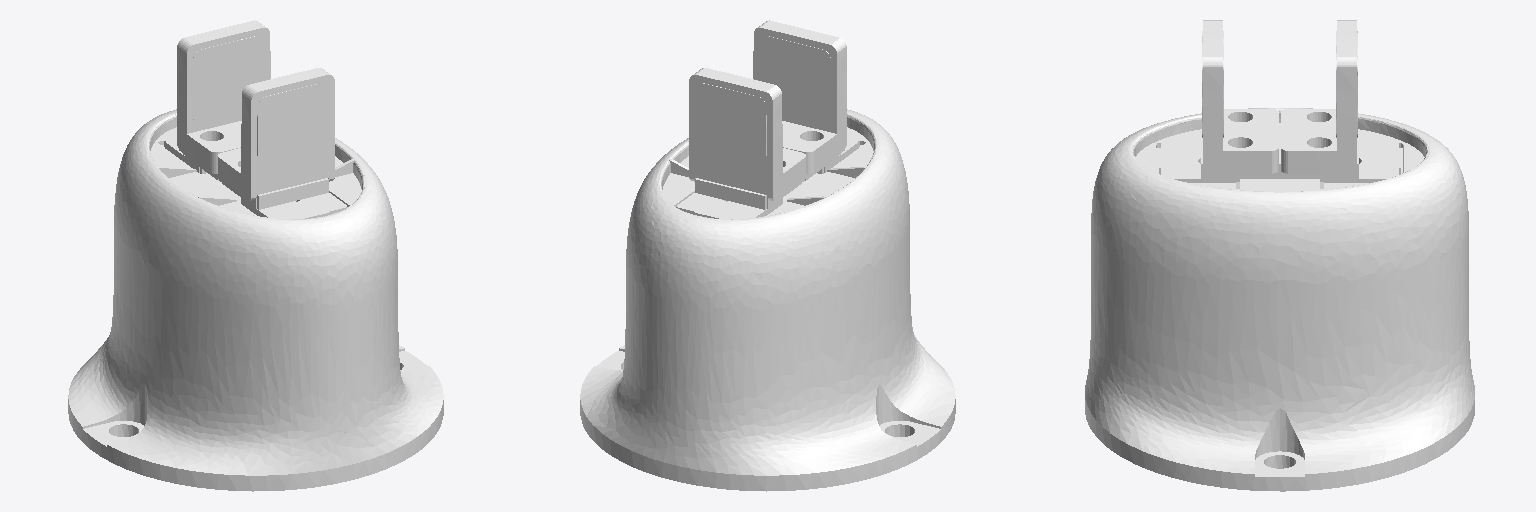
URDF robot description (lite_gripper):
<?xml version='1.0' encoding='utf-8'?>
<robot name="lite_gripper" version="1.2">
  <material name="White">
    <color rgba="1.0 1.0 1.0 1.0" />
  </material>
  <ros2_control name="XArmGripperSystem" type="system">
    <hardware>
      <plugin>topic_based_ros2_control/TopicBasedSystem</plugin>
      <!-- <param name="joint_commands_topic">${isaac_cmd_topic}</param> -->
      <param name="joint_states_topic">/isaac_joint_states</param>
    </hardware>
    <!-- Drive joint: only this joint is commandable -->
    <joint name="right_finger_joint">
      <command_interface name="position" />
      <state_interface name="position" />
      <state_interface name="velocity" />
    </joint>
    <!-- Mimic joint(s): state-only, no command interfaces -->
    <!-- REMOVED TO AVOID CONFLICTS WITH TF AS IT'S NOT CONTROLLED-->
    <!-- <joint name="${prefix}left_finger_joint">
        <state_interface name="position"/>
        <state_interface name="velocity"/>
      </joint> -->
  </ros2_control>
  <!-- The robot flange plane: cut at gripper_fix from the combined model; the robot's `flange` attachment puts this link on link_eef. -->
  <link name="lite_gripper_mount"/>
  <joint name="gripper_fix" type="fixed">
    <parent link="lite_gripper_mount" />
    <child link="lite_gripper_base_link" />
    <origin rpy="0 0 0" xyz="0 0 0" />
  </joint>
  <link name="lite_gripper_base_link">
    <inertial>
      <origin rpy="0 0 0" xyz="0.0 0.0 0.030" />
      <mass value="0.28" />
      <inertia ixx="0.00047106" ixy="3.9292E-07" ixz="2.6537E-06" iyy="0.00033072" iyz="-1.0975E-05" izz="0.00025642" />
    </inertial>
    <visual>
      <geometry>
        <mesh filename="package://manyforge_example_models/models/lite6_lite_gripper/meshes/gripper/lite/visual/gripper_lite_body.stl" />
      </geometry>
      <origin rpy="0 0 0" xyz="0 0 0" />
      <material name="White" />
    </visual>
    <collision>
      <geometry>
        <mesh filename="package://manyforge_example_models/models/lite6_lite_gripper/meshes/gripper/lite/collision/gripper_lite_body.stl" />
      </geometry>
      <origin rpy="0 0 0" xyz="0 0 0" />
    </collision>
  </link>
  <link name="lite_gripper_left_finger">
    <inertial>
      <origin rpy="0 0 0" xyz="0 0.0078 0.0543" />
      <mass value="0.012105" />
      <inertia ixx="3.7322E-06" ixy="-4.1705E-06" ixz="4.0142E-06" iyy="1.744E-05" iyz="-1.2237E-06" izz="1.7775E-05" />
    </inertial>
    <visual>
      <geometry>
        <mesh filename="package://manyforge_example_models/models/lite6_lite_gripper/meshes/gripper/lite/visual/gripper_lite_finger.stl" />
      </geometry>
      <origin rpy="0 0 3.14159" xyz="0 0.0078 0.0543" />
      <material name="White" />
    </visual>
    <collision>
      <geometry>
        <mesh filename="package://manyforge_example_models/models/lite6_lite_gripper/meshes/gripper/lite/collision/gripper_lite_finger.stl" />
      </geometry>
      <origin rpy="0 0 3.14159" xyz="0 0.0078 0.0543" />
    </collision>
  </link>
  <joint name="left_finger_joint" type="prismatic">
    <origin rpy="0 0 0" xyz="0 0 0" />
    <parent link="lite_gripper_base_link" />
    <child link="lite_gripper_left_finger" />
    <axis xyz="0 1 0" />
    <limit effort="10000" lower="0.0" upper="0.0081" velocity="0.1" />
    <mimic joint="right_finger_joint" multiplier="1" offset="0" />
  </joint>
  <link name="lite_gripper_right_finger">
    <inertial>
      <origin rpy="0 0 0" xyz="0 -0.0078 0.0543" />
      <mass value="0.012068" />
      <inertia ixx="4.1413E-06" ixy="3.9682E-06" ixz="4.5734E-06" iyy="1.6115E-05" iyz="1.6711E-06" izz="1.6032E-05" />
    </inertial>
    <visual>
      <geometry>
        <mesh filename="package://manyforge_example_models/models/lite6_lite_gripper/meshes/gripper/lite/visual/gripper_lite_finger.stl" />
      </geometry>
      <origin rpy="0 0 0" xyz="0 -0.0078 0.0543" />
      <material name="White" />
    </visual>
    <collision>
      <geometry>
        <mesh filename="package://manyforge_example_models/models/lite6_lite_gripper/meshes/gripper/lite/collision/gripper_lite_finger.stl" />
      </geometry>
      <origin rpy="0 0 0" xyz="0 -0.0078 0.0543" />
    </collision>
  </link>
  <joint name="right_finger_joint" type="prismatic">
    <parent link="lite_gripper_base_link" />
    <child link="lite_gripper_right_finger" />
    <origin rpy="0 0 0" xyz="0 0 0" />
    <axis xyz="0 -1 0" />
    <limit effort="10000" lower="0.0" upper="0.0081" velocity="0.1" />
  </joint>
  <link name="link_tcp" />
  <joint name="joint_tcp" type="fixed">
    <origin rpy="0 0 0" xyz="0 0 0.0836" />
    <parent link="lite_gripper_base_link" />
    <child link="link_tcp" />
  </joint>
</robot>

--- Render facts (derived) ---
Views: 3 orthographic renders of the robot side by side, from view 1: azimuth 30°, elevation 25°; view 2: azimuth 150°, elevation 25°; view 3: azimuth 270°, elevation 25°.
Robot: lite_gripper — 5 links, 4 joints (2 prismatic, 2 fixed); root link lite_gripper_mount; default pose: all joints at 0.
Visible links, largest first — view 1: lite_gripper_base_link, lite_gripper_right_finger, lite_gripper_left_finger; view 2: lite_gripper_base_link, lite_gripper_left_finger, lite_gripper_right_finger; view 3: lite_gripper_base_link, lite_gripper_left_finger, lite_gripper_right_finger.
Boxes of the visible links, x1,y1,x2,y2 form: lite_gripper_base_link: (68, 109, 443, 491); lite_gripper_right_finger: (218, 68, 334, 209); lite_gripper_left_finger: (177, 20, 270, 181); lite_gripper_base_link: (580, 109, 955, 491); lite_gripper_left_finger: (689, 68, 805, 209); lite_gripper_right_finger: (753, 20, 846, 181); lite_gripper_base_link: (1085, 108, 1474, 491); lite_gripper_left_finger: (1280, 20, 1358, 178); lite_gripper_right_finger: (1201, 20, 1279, 178).
Size in the robot's own frame: 0.0775 by 0.0775 by 0.0811 metres.
Meshes: 2 distinct files referenced, 3 mesh visuals loaded (2 binary STL).
